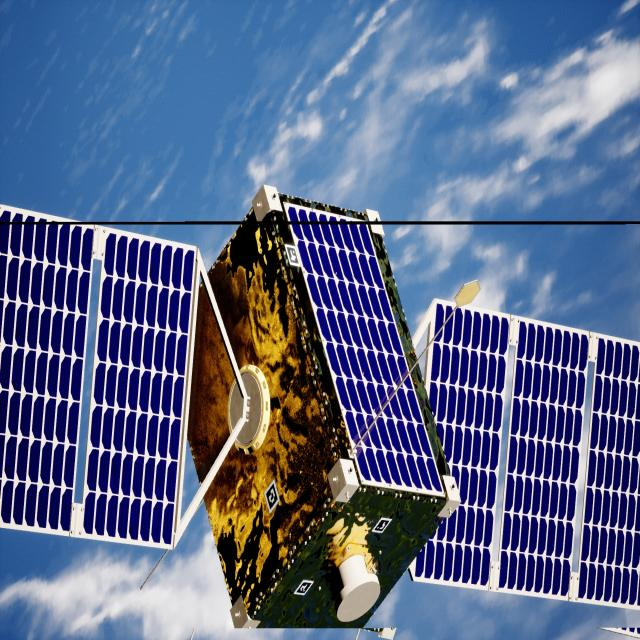medium_debris: (0, 186, 640, 629)
